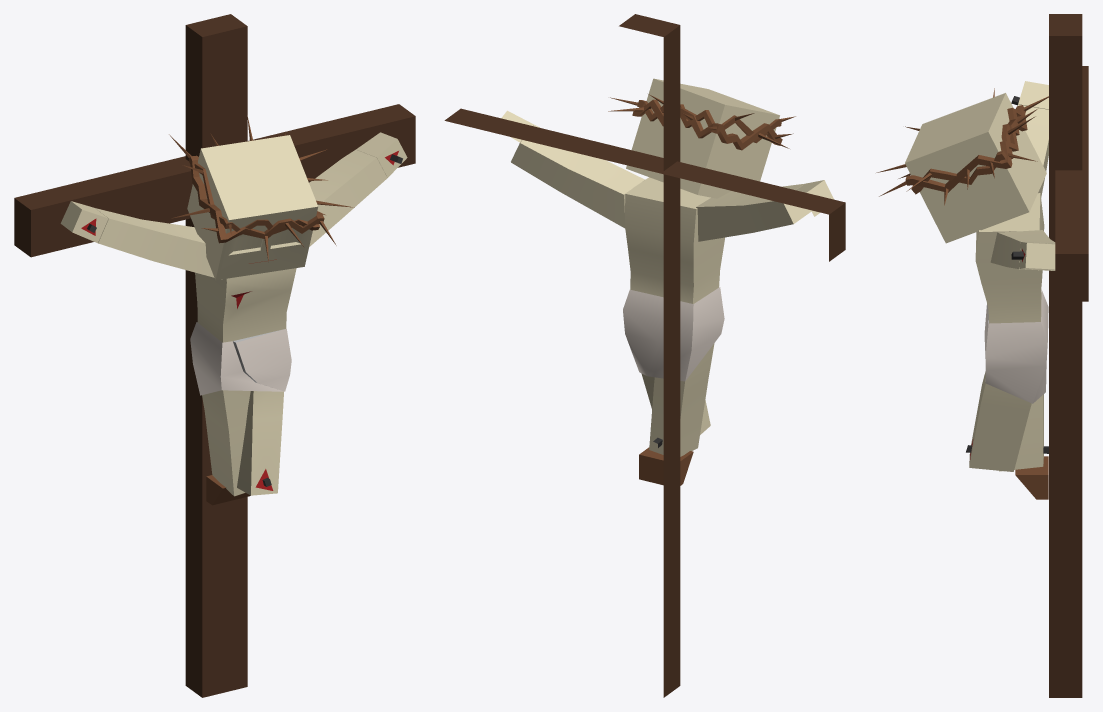
Rendered from BigJesus.glb.
The picture shows the model from 3 angles, left to right: view 1: azimuth 30°, elevation 25°; view 2: azimuth 150°, elevation 25°; view 3: azimuth 270°, elevation 25°; orthographic projection.
Parts seen in each view (by area): view 1: BigJesus; view 2: BigJesus; view 3: BigJesus.
Boxes of the visible parts, left/top/right/bottom form: BigJesus: left=14, top=14, right=415, bottom=697; BigJesus: left=444, top=14, right=845, bottom=697; BigJesus: left=876, top=14, right=1088, bottom=697.
Size of the model in its own units: 2.18 by 3.57 by 1.05.
Materials: 1 (1 with a texture image).
